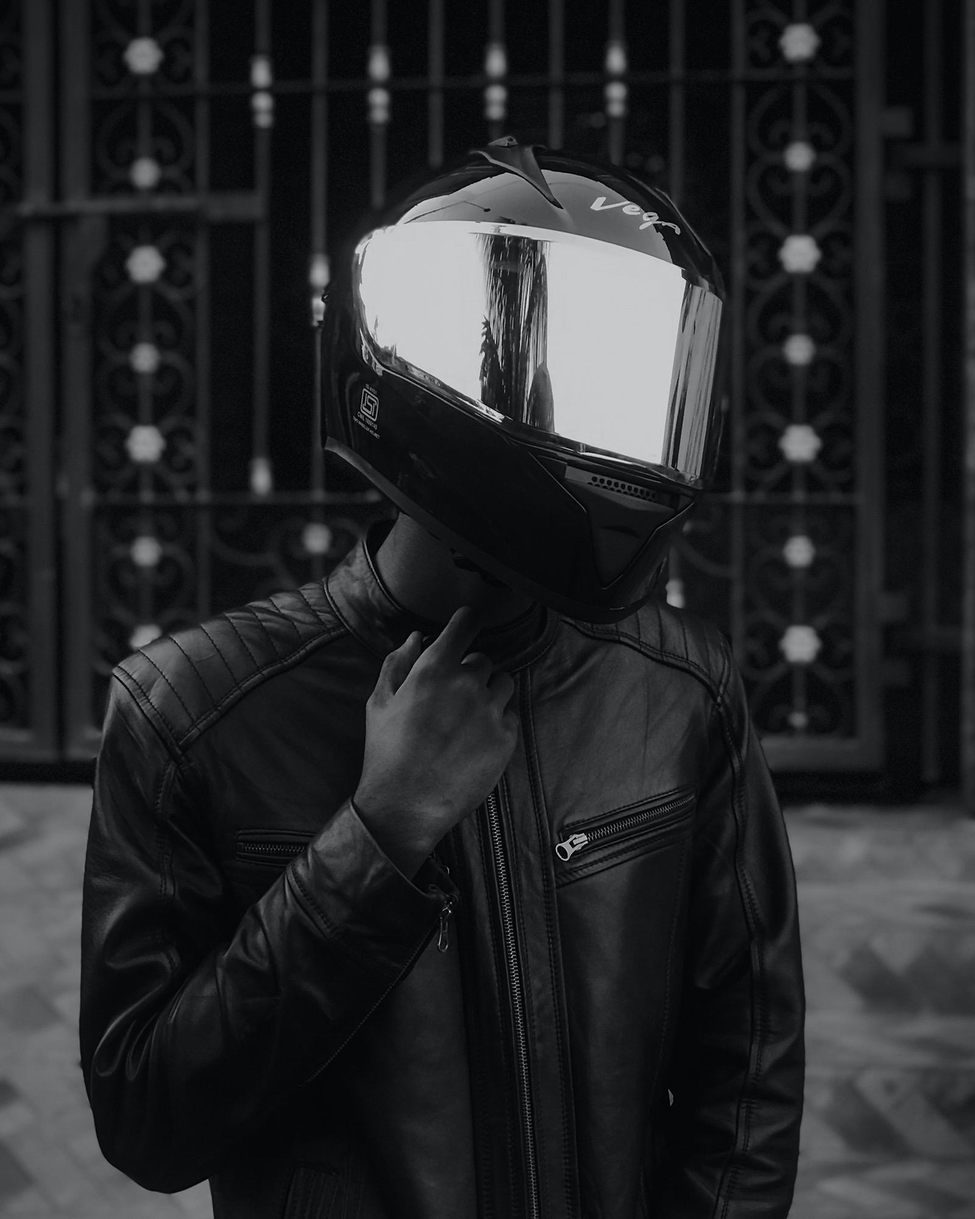helmet: (319, 132, 729, 628)
